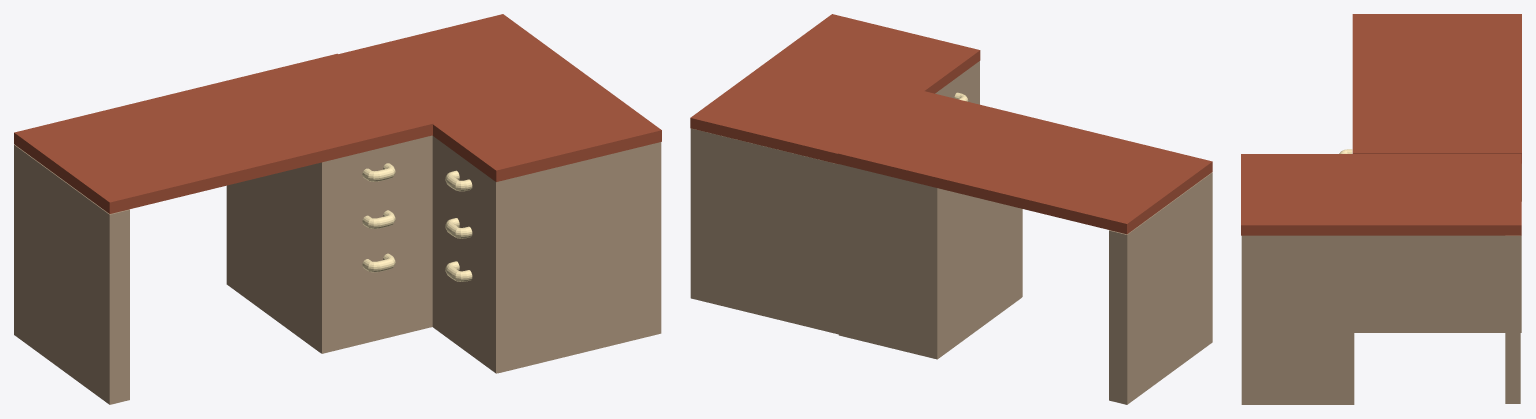
File: Desk_2.fbx
The picture shows the model from 3 angles, left to right: view 1: azimuth 30°, elevation 25°; view 2: azimuth 150°, elevation 25°; view 3: azimuth 270°, elevation 25°; orthographic projection. The views are drawn at different scales.
Visible parts, largest first — view 1: Obj_Desk4; view 2: Obj_Desk4; view 3: Obj_Desk4.
Boxes of the visible parts, left/top/right/bottom form: Obj_Desk4: left=14, top=14, right=661, bottom=404; Obj_Desk4: left=690, top=14, right=1212, bottom=404; Obj_Desk4: left=1241, top=14, right=1521, bottom=404.
Bounding box in the file's own units: 385 × 154 × 217.
Materials: 1 (1 with a texture image).
